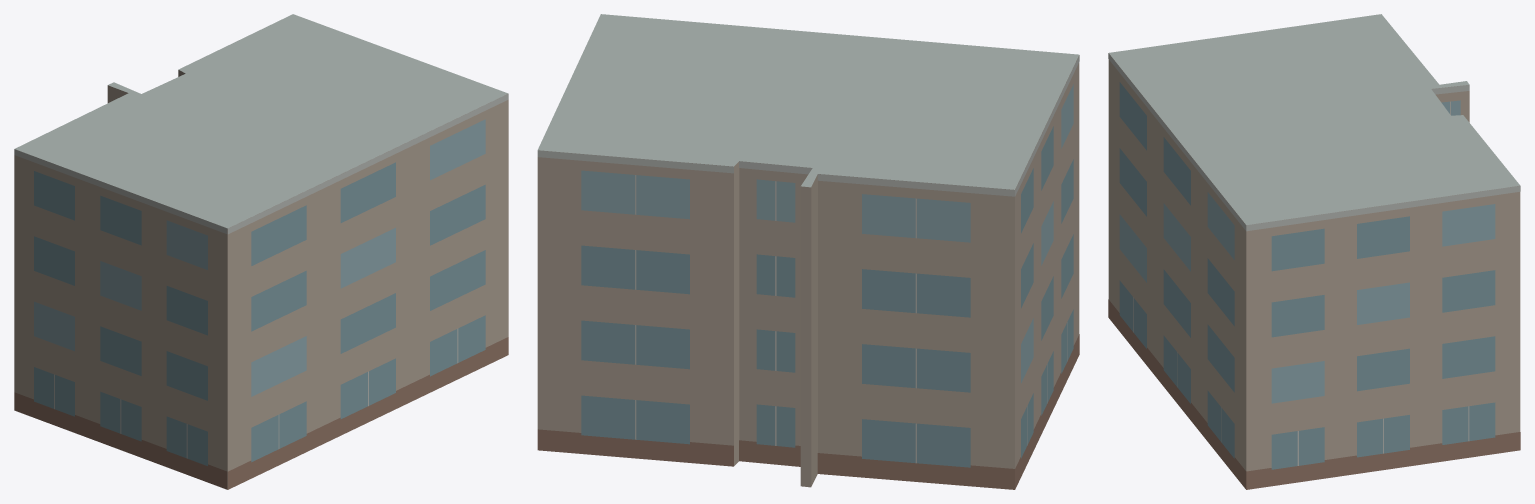
The model's file is survey-upis-32594329.glb.
The picture shows the model from 3 angles, left to right: view 1: azimuth 30°, elevation 25°; view 2: azimuth 150°, elevation 25°; view 3: azimuth 270°, elevation 25°; orthographic projection. The views are drawn at different scales.
Parts seen in each view (by area): view 1: survey-upis-32594329.tmp; view 2: survey-upis-32594329.tmp; view 3: survey-upis-32594329.tmp.
Part boxes in pixels (box(x1,y1,x2,y2)): survey-upis-32594329.tmp: box(14, 14, 508, 489); survey-upis-32594329.tmp: box(537, 14, 1079, 489); survey-upis-32594329.tmp: box(1108, 14, 1520, 489).
Bounding box in the file's own units: 18.24 × 10.65 × 15.04.
